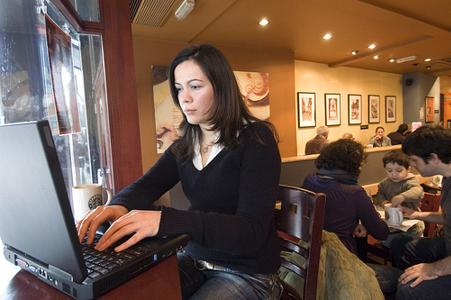person: (77, 44, 283, 300)
